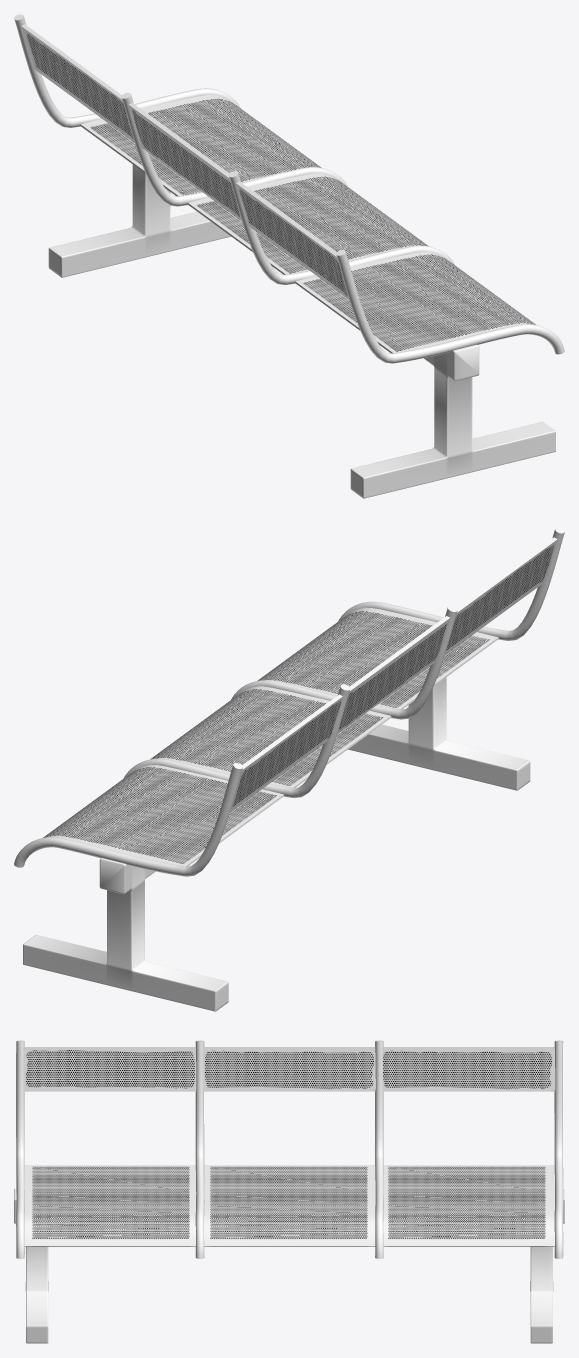
Rendered from Bench.fbx.
The picture shows the model from 3 angles, top to bottom: view 1: azimuth 30°, elevation 25°; view 2: azimuth 150°, elevation 25°; view 3: azimuth 270°, elevation 25°; orthographic projection. The views are drawn at different scales.
Visible parts, largest first — view 1: Plane_low; view 2: Plane_low; view 3: Plane_low.
Part boxes in pixels (box(x1,y1,x2,y2)): Plane_low: box(14, 14, 564, 498); Plane_low: box(14, 527, 564, 1011); Plane_low: box(14, 1040, 564, 1343).
Bounding box in the file's own units: 0.6107 × 0.6574 × 1.53.
